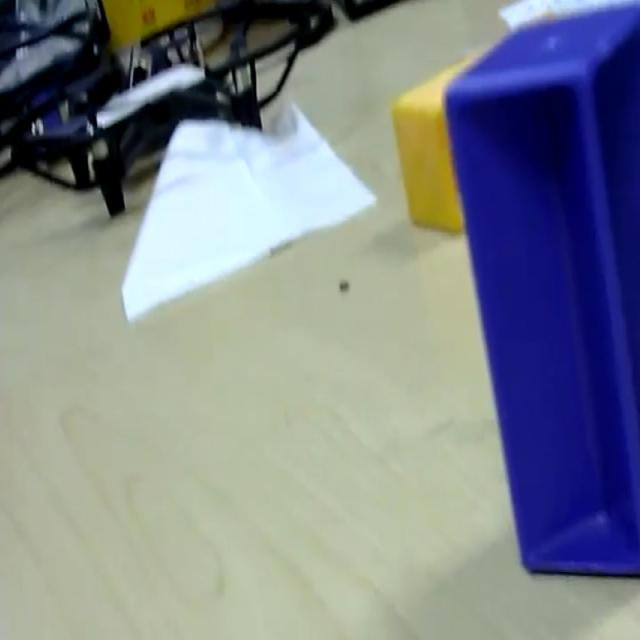blue_block: (442, 1, 638, 578)
yellow_block: (390, 45, 486, 234)
